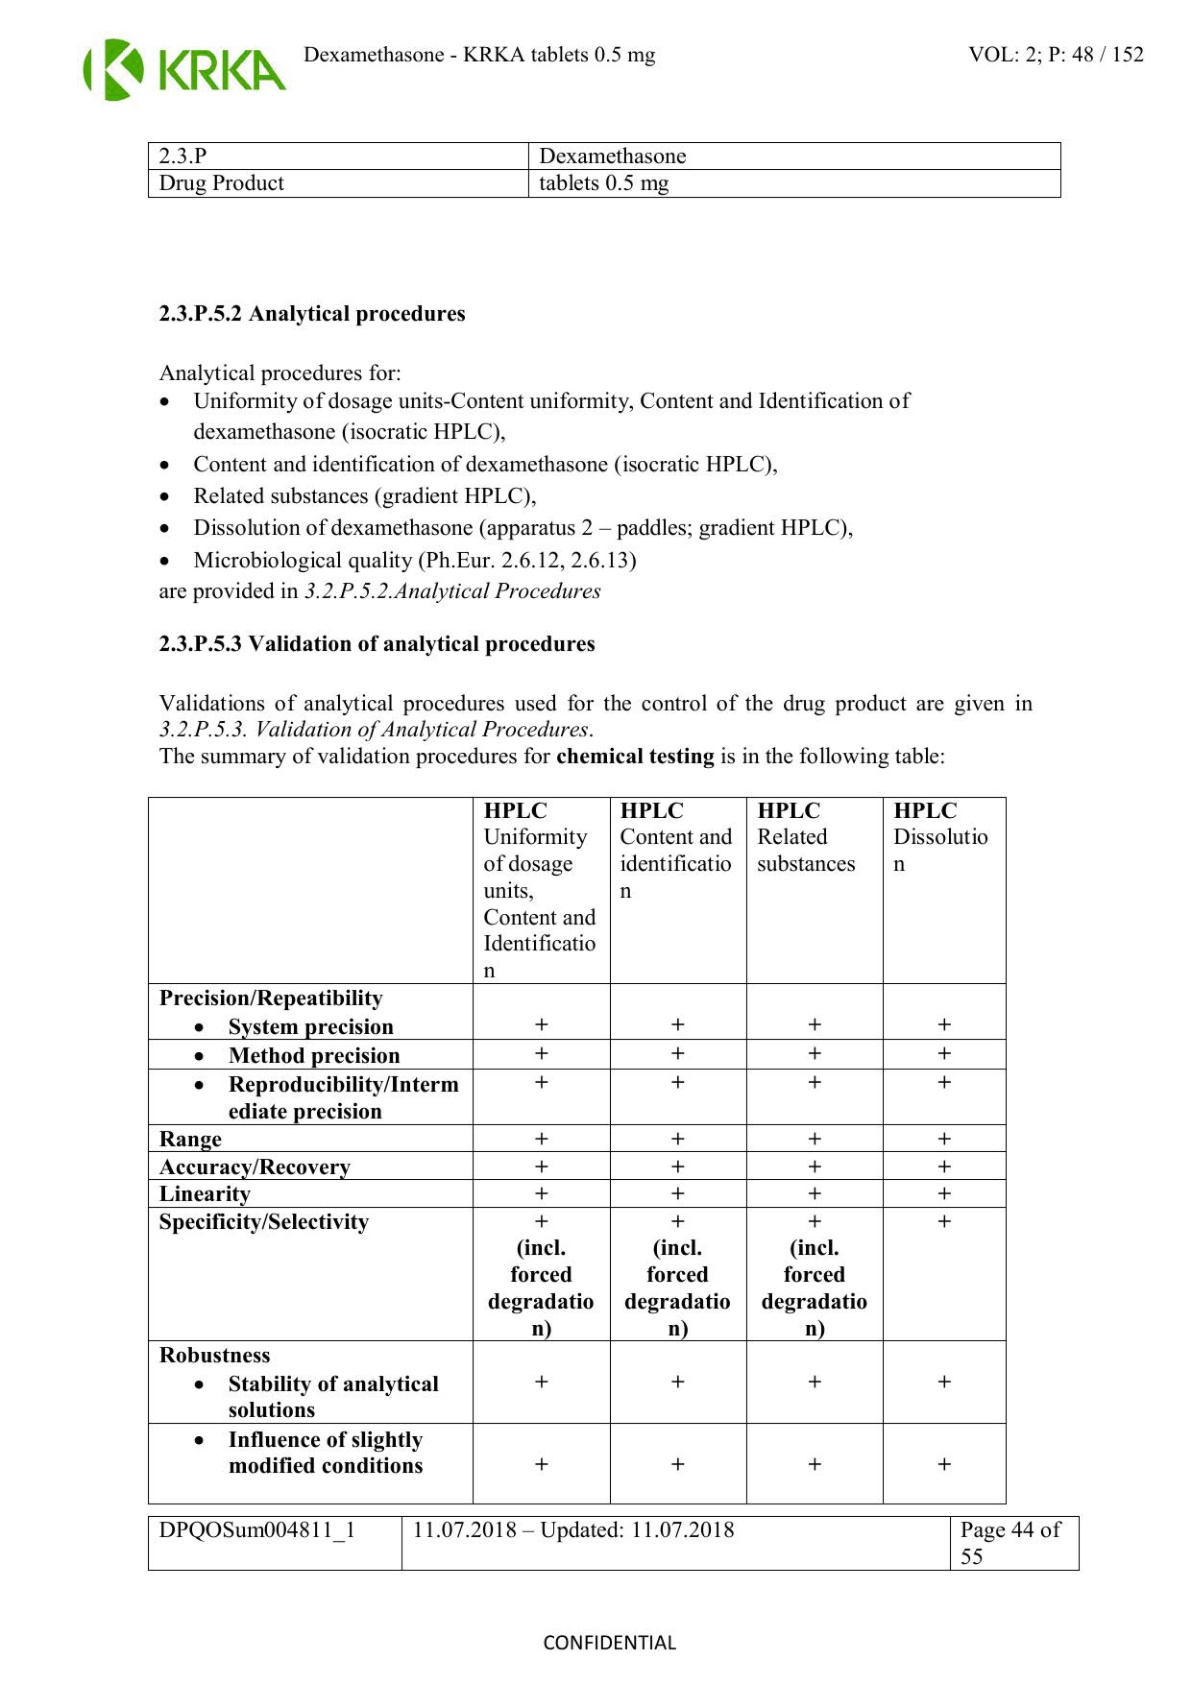full_lined: (147, 796, 1008, 1506), (147, 1515, 1081, 1572), (147, 142, 1062, 199)
